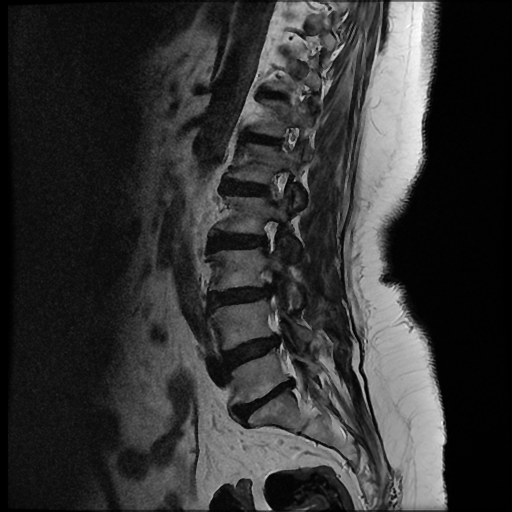LFS0: (252, 161, 301, 214), (247, 213, 292, 263)
